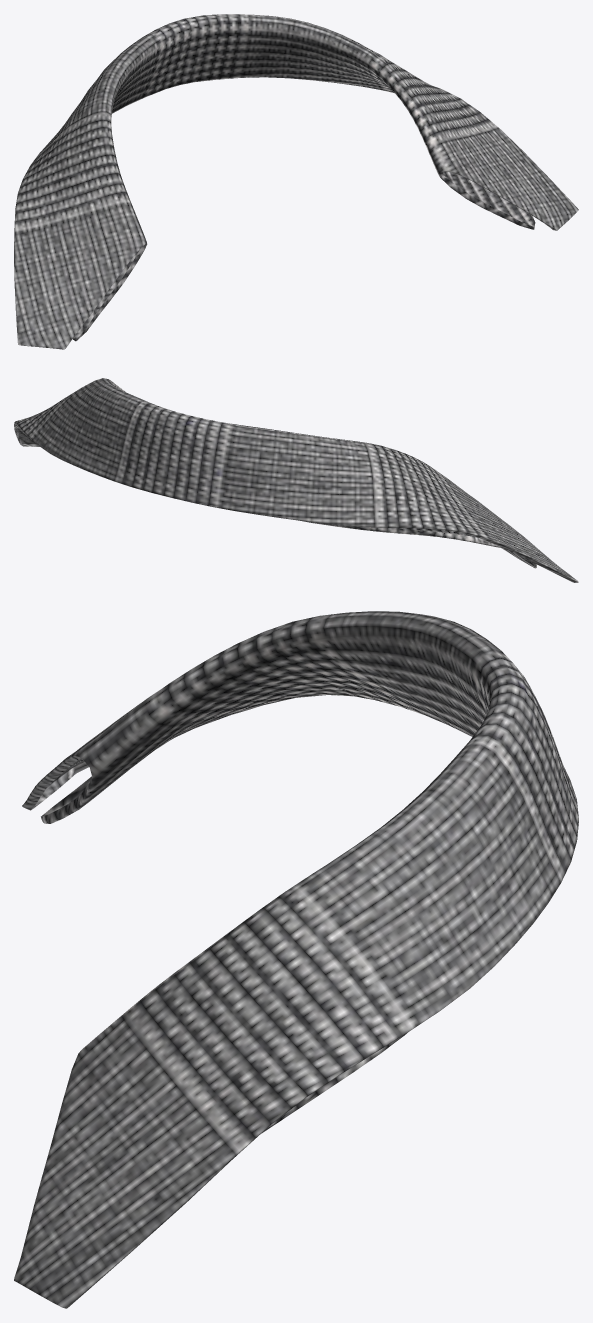
The model's file is Peak_Collor.glb.
3 views of the same model, one above another, from view 1: azimuth 30°, elevation 25°; view 2: azimuth 150°, elevation 25°; view 3: azimuth 270°, elevation 25° (orthographic). The views are drawn at different scales.
Visible parts, largest first — view 1: Peak_Collor; view 2: Peak_Collor; view 3: Peak_Collor.
Part boxes in pixels (bbox=[...]): Peak_Collor: bbox=[14, 14, 578, 349]; Peak_Collor: bbox=[14, 378, 578, 582]; Peak_Collor: bbox=[14, 611, 578, 1308].
Bounding box in the file's own units: 0.0375 × 0.0117 × 0.0165.
Materials: 1 (1 with a texture image).
